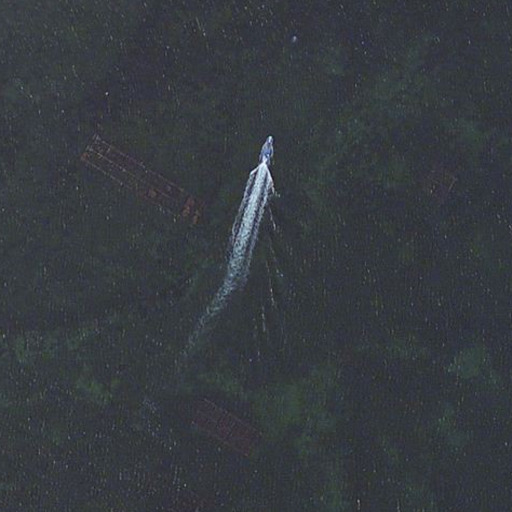ship: (256, 132, 278, 174)
